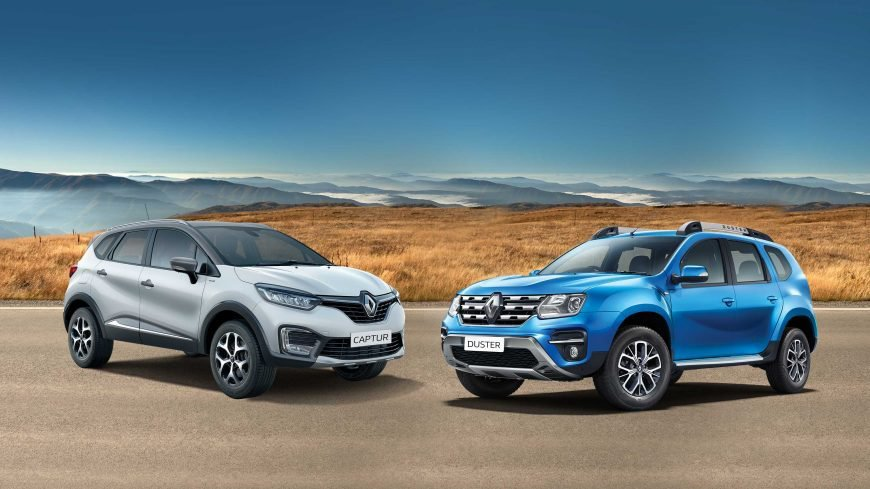car: (437, 220, 818, 411), (70, 216, 408, 394)
